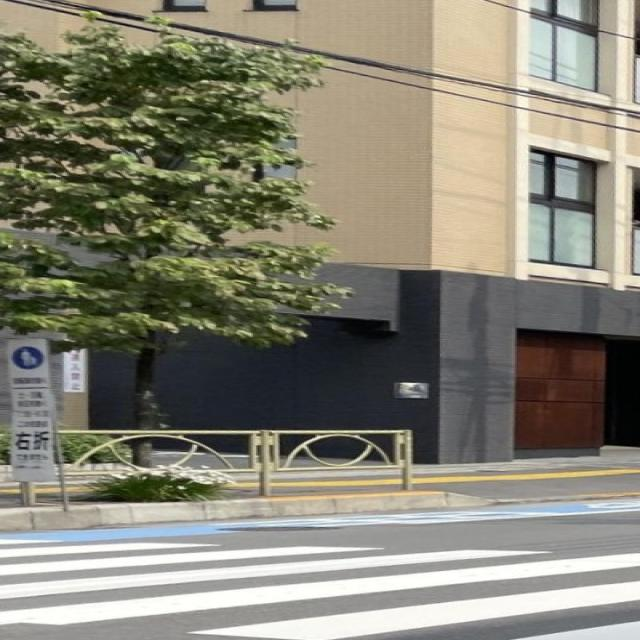dogwood: (0, 10, 358, 495)
